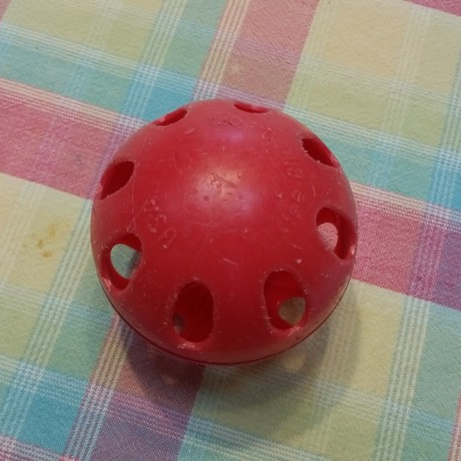ball: (80, 92, 365, 370)
